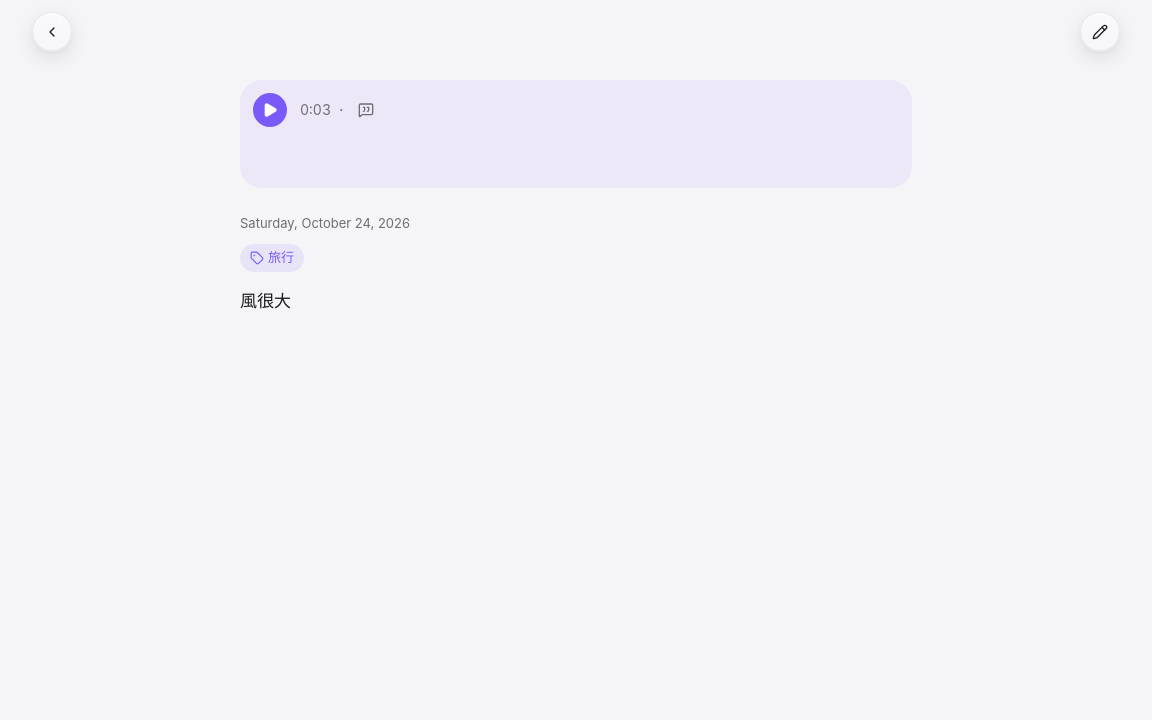
Test: Done saves and goes back to reading the saved text
The image size is (1152, 720).
Click the button named "Edit": (1100, 32) [1080,12,1120,52]
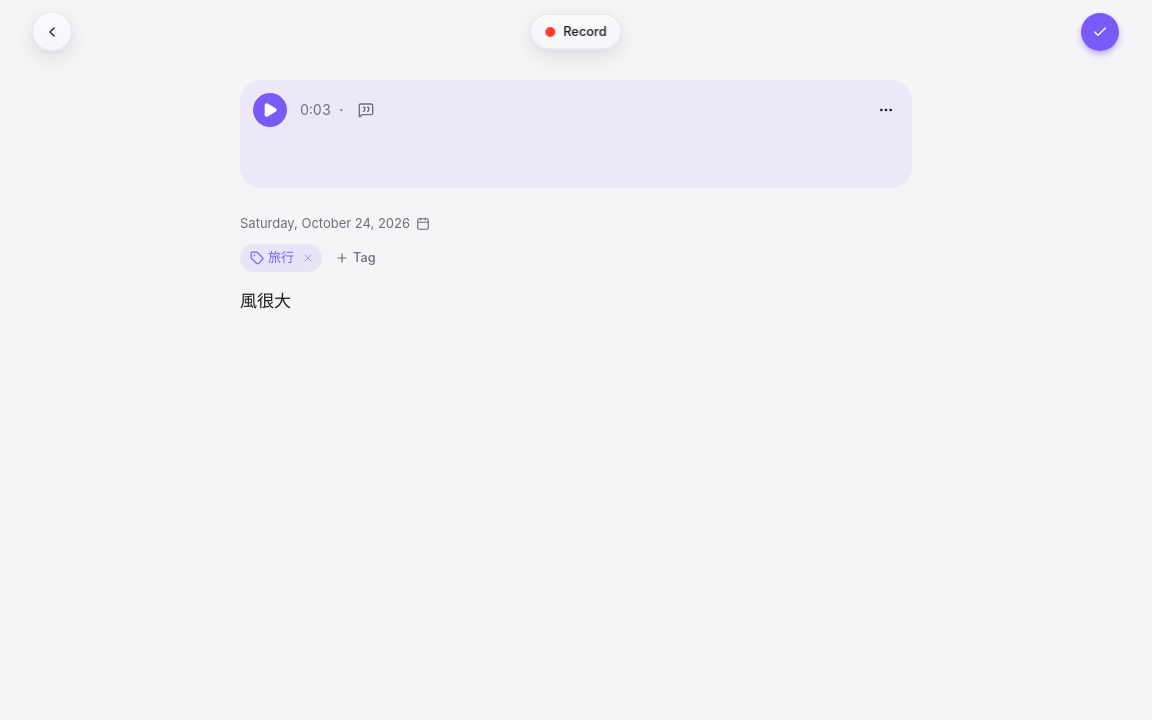
Replace the text in the text box named "Entry" with "風很大，浪也很大": (576, 448) [240,288,912,608]
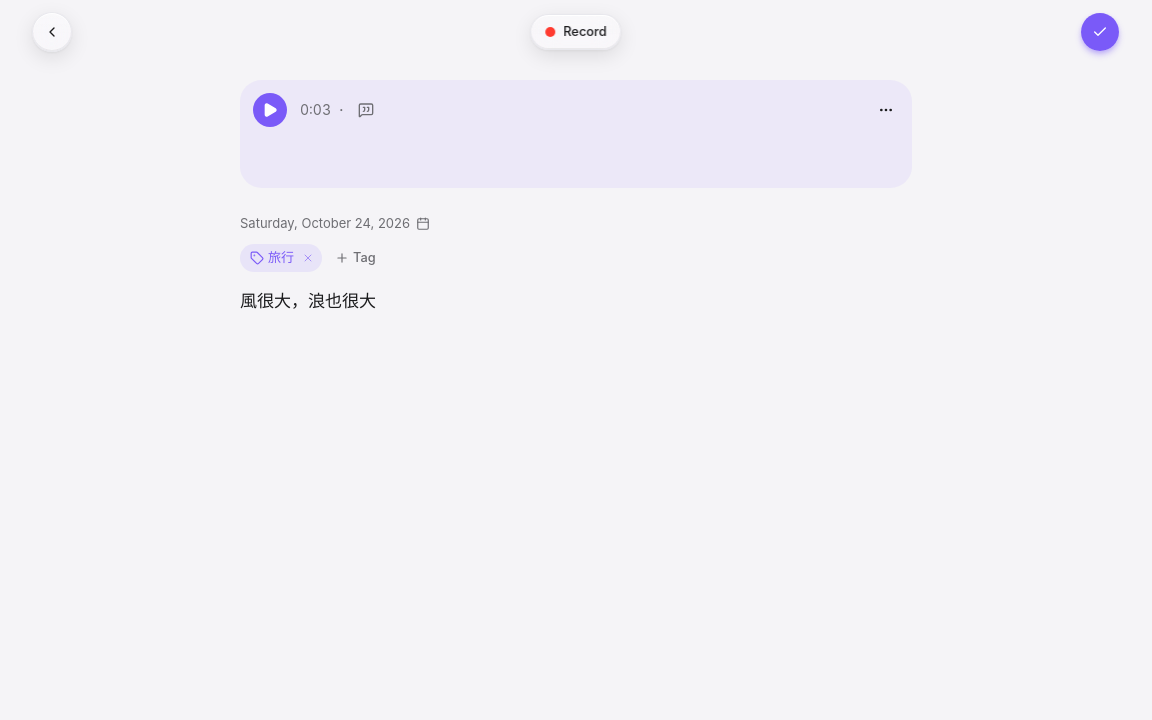
Click the button named "Done": (1100, 32) [1080,12,1120,52]
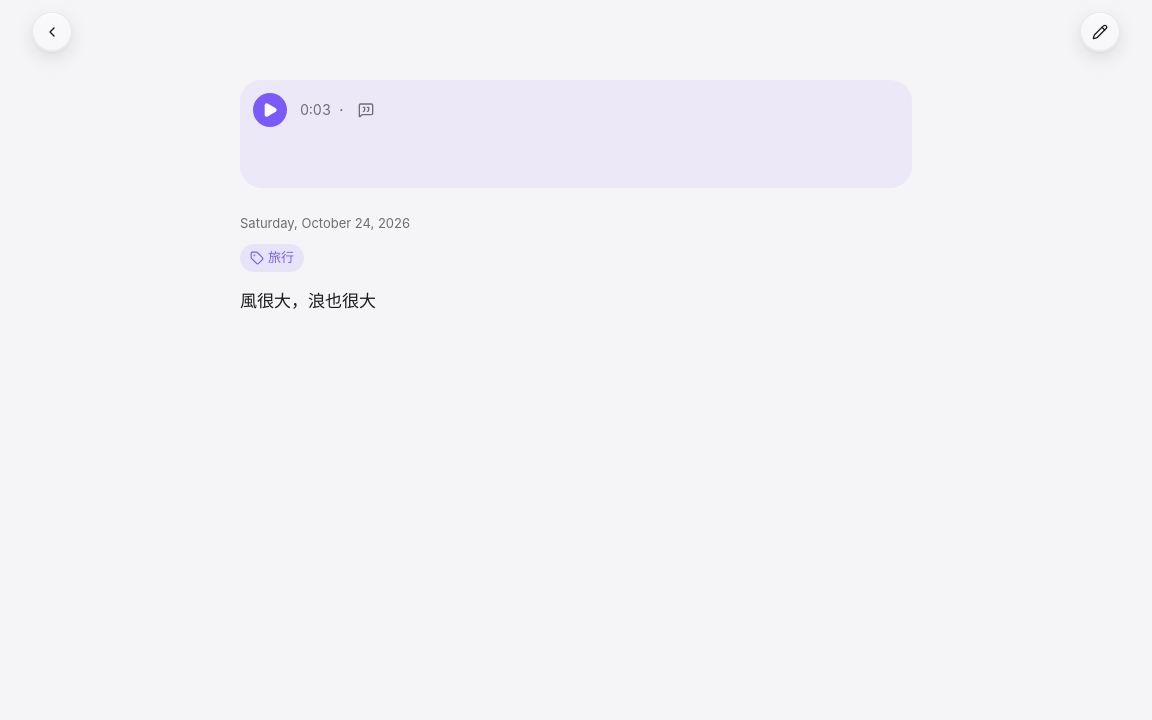
Check: the text "風很大，浪也很大" is shown, box [240,290,376,310]
Check: the button "Entry" is gone
